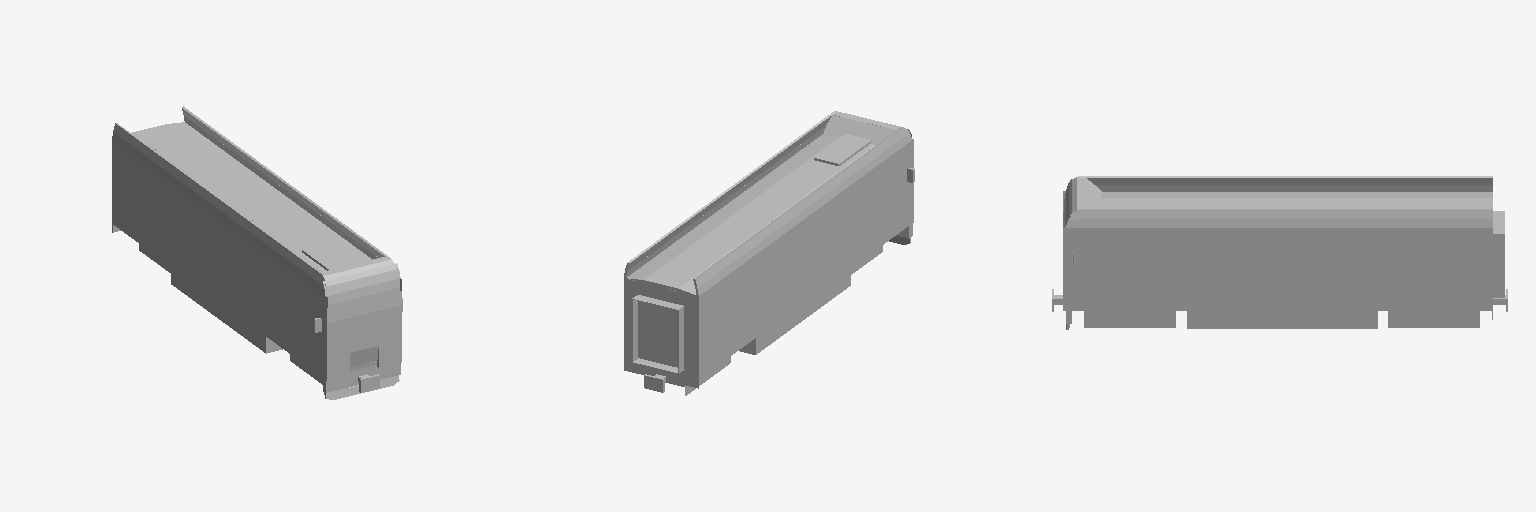
The model's file is refurbished_motorp_nopanto.obj.
3 renders of one model, left to right at view 1: azimuth 30°, elevation 25°; view 2: azimuth 150°, elevation 25°; view 3: azimuth 270°, elevation 25°, orthographic.
Visible parts, largest first — view 1: body, bogies, pantograph; view 2: body, bogies, buffer, pantograph; view 3: body, bogies, buffer, pantograph.
Boxes of the visible parts, box(x1,y1,x2,y2) form: body: box(112, 106, 402, 399); bogies: box(139, 244, 379, 392); pantograph: box(302, 244, 354, 270); body: box(624, 111, 914, 388); bogies: box(644, 245, 882, 395); buffer: box(632, 295, 684, 373); pantograph: box(814, 134, 871, 165); body: box(1063, 176, 1492, 329); bogies: box(1052, 289, 1507, 328); buffer: box(1493, 211, 1504, 297); pantograph: box(1098, 198, 1162, 208).
Bounding box in the file's own units: 2.75 × 3.79 × 12.43.